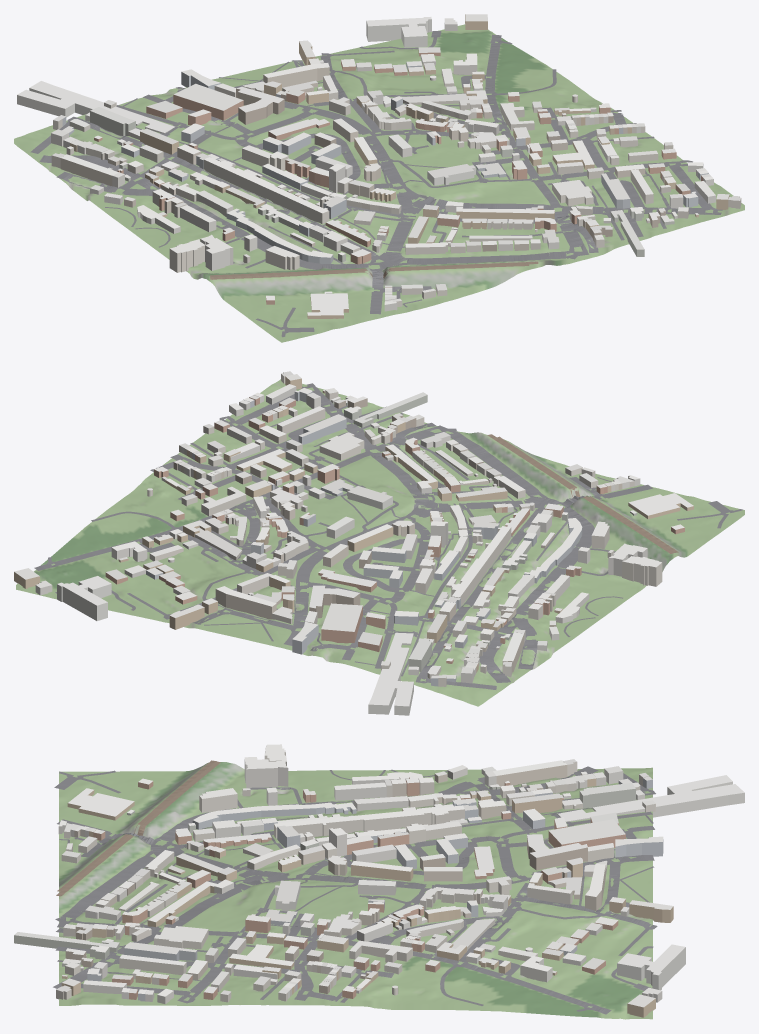
3 renders of one model, top to bottom at view 1: azimuth 30°, elevation 25°; view 2: azimuth 150°, elevation 25°; view 3: azimuth 270°, elevation 25°, orthographic. The views are drawn at different scales.
Parts seen in each view (by area): view 1: prim1, prim0, prim2, prim3; view 2: prim1, prim0, prim2, prim3; view 3: prim1, prim0, prim2, prim3.
Boxes of the visible parts, x1,y1,x2,y2 form: prim1: (17,14,741,318); prim0: (14,24,744,342); prim2: (30,31,722,337); prim3: (210,261,538,279); prim1: (14,371,693,715); prim0: (16,379,744,706); prim2: (34,383,742,689); prim3: (487,434,678,553); prim1: (14,744,744,1017); prim0: (59,762,652,1019); prim2: (53,766,657,1014); prim3: (56,760,220,896).
Size of the model in its own units: 531 by 41.91 by 630.
